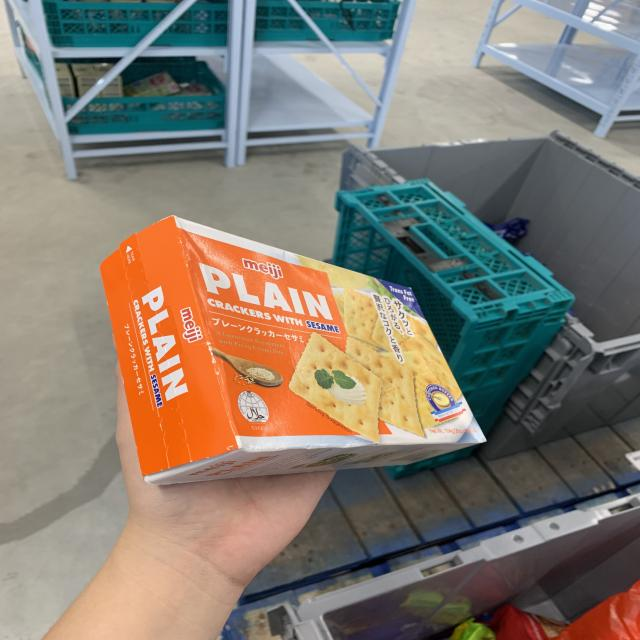object_name: (104, 242, 457, 456)
